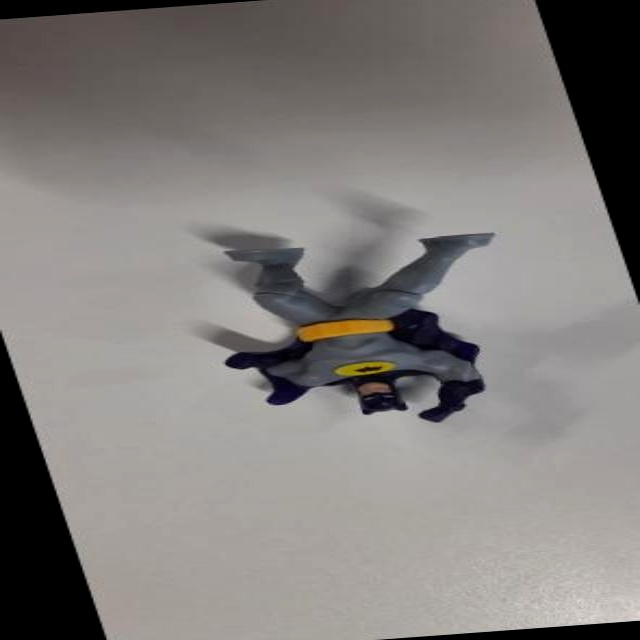Batman: (162, 209, 569, 445)
